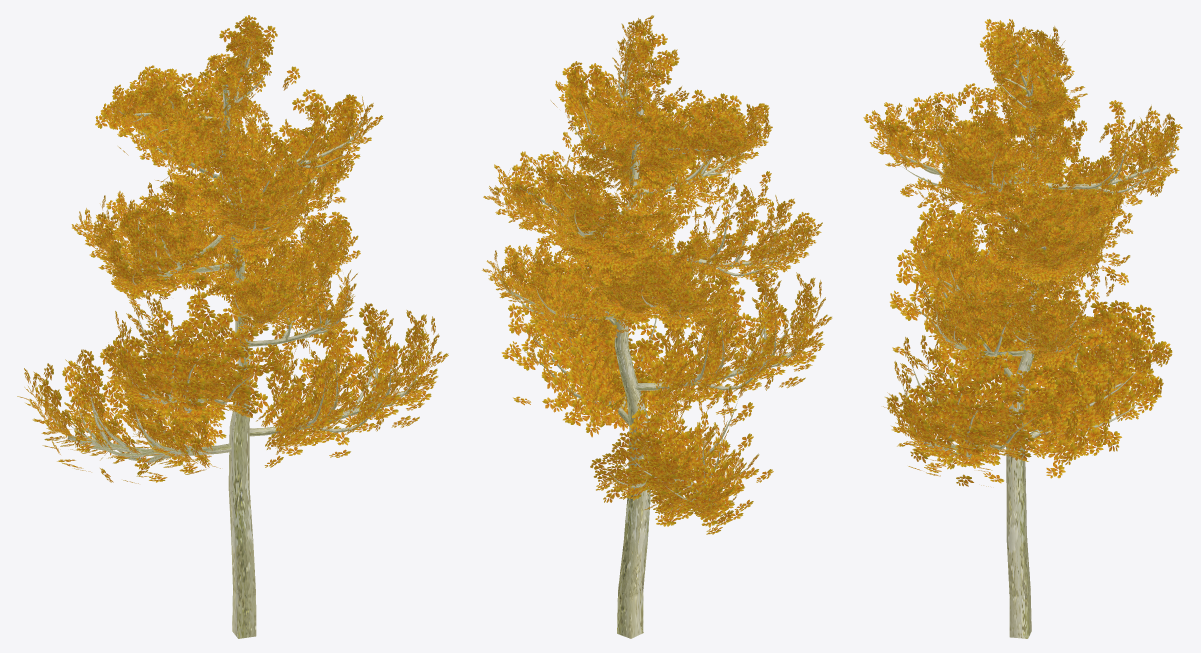
File: Tree_4_3.glb
3 views of the same model, side by side, from view 1: azimuth 30°, elevation 25°; view 2: azimuth 150°, elevation 25°; view 3: azimuth 270°, elevation 25° (orthographic). The views are drawn at different scales.
Visible parts, largest first — view 1: Tree_4_V3; view 2: Tree_4_V3; view 3: Tree_4_V3.
Part boxes in pixels (<box>): Tree_4_V3: <box>17,15,448,638</box>; Tree_4_V3: <box>482,15,832,638</box>; Tree_4_V3: <box>863,19,1182,638</box>.
Bounding box in the file's own units: 3.17 × 5.74 × 2.73.
Materials: 1 (1 with a texture image).
